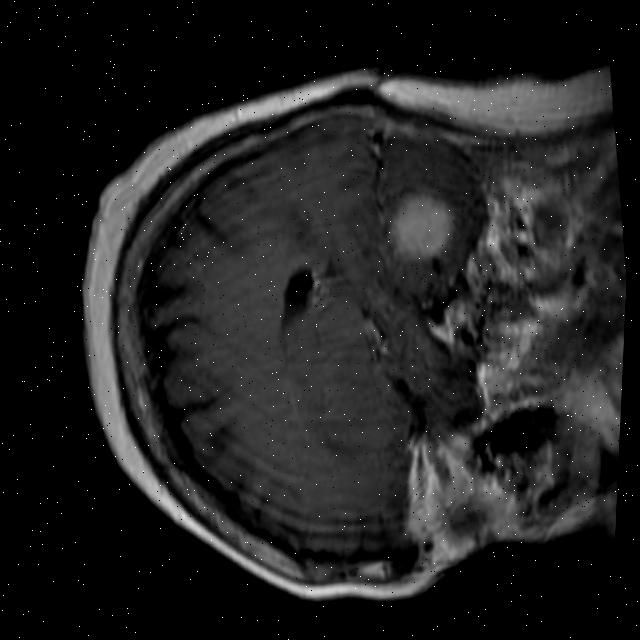Meningioma: (378, 179, 464, 267)
